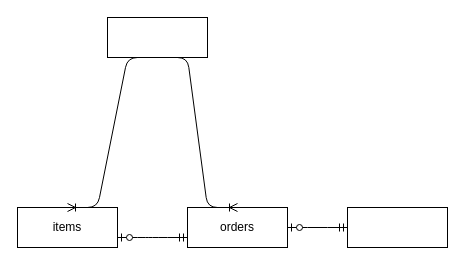
The diagram is 465 pixels wide and 265 high, and some of its shapes have lost their labels. The shapes that lost their labels are listed below. From the top down, each one's centre as x and y in pixels, then its label:
At [157,37]: "users".
At [397,227]: "address".
